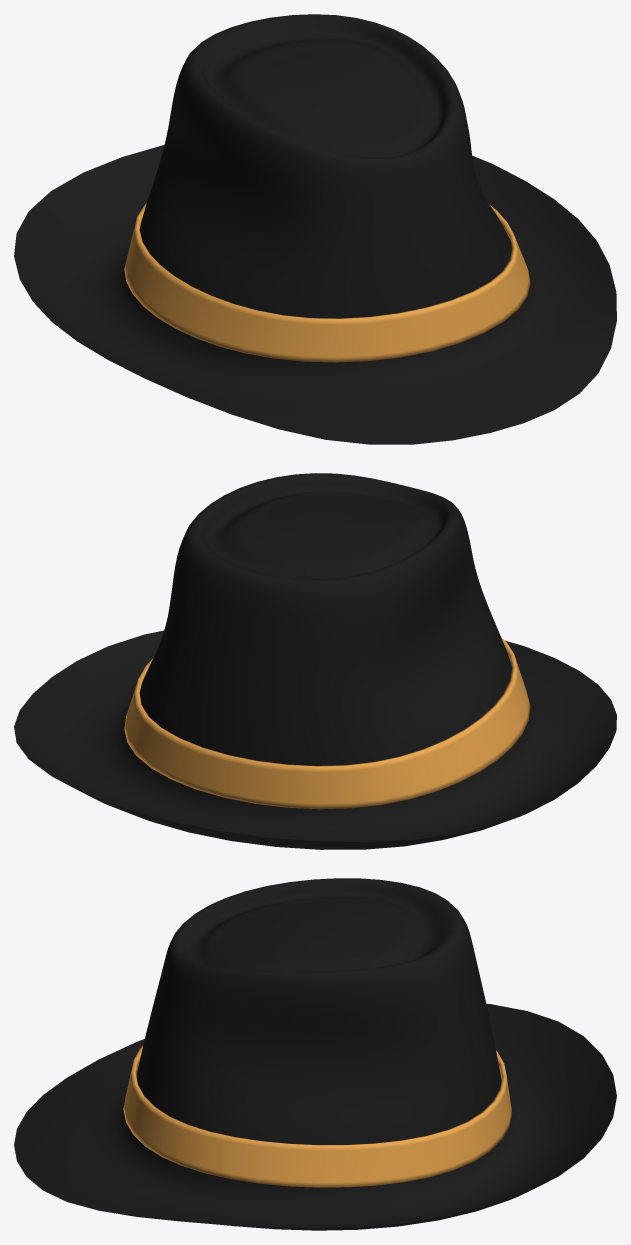
File: hat.glb
3 renders of one model, top to bottom at view 1: azimuth 30°, elevation 25°; view 2: azimuth 150°, elevation 25°; view 3: azimuth 270°, elevation 25°, orthographic. The views are drawn at different scales.
Parts seen in each view (by area): view 1: Cylinder, Cylinder.001; view 2: Cylinder, Cylinder.001; view 3: Cylinder, Cylinder.001.
Boxes of the visible parts, <box> form: Cylinder: <box>14,14,616,444</box>; Cylinder.001: <box>124,203,530,362</box>; Cylinder: <box>14,473,616,849</box>; Cylinder.001: <box>124,638,530,809</box>; Cylinder: <box>14,878,616,1230</box>; Cylinder.001: <box>123,1045,512,1187</box>.
Bounding box in the file's own units: 2.57 × 1.16 × 2.86.
